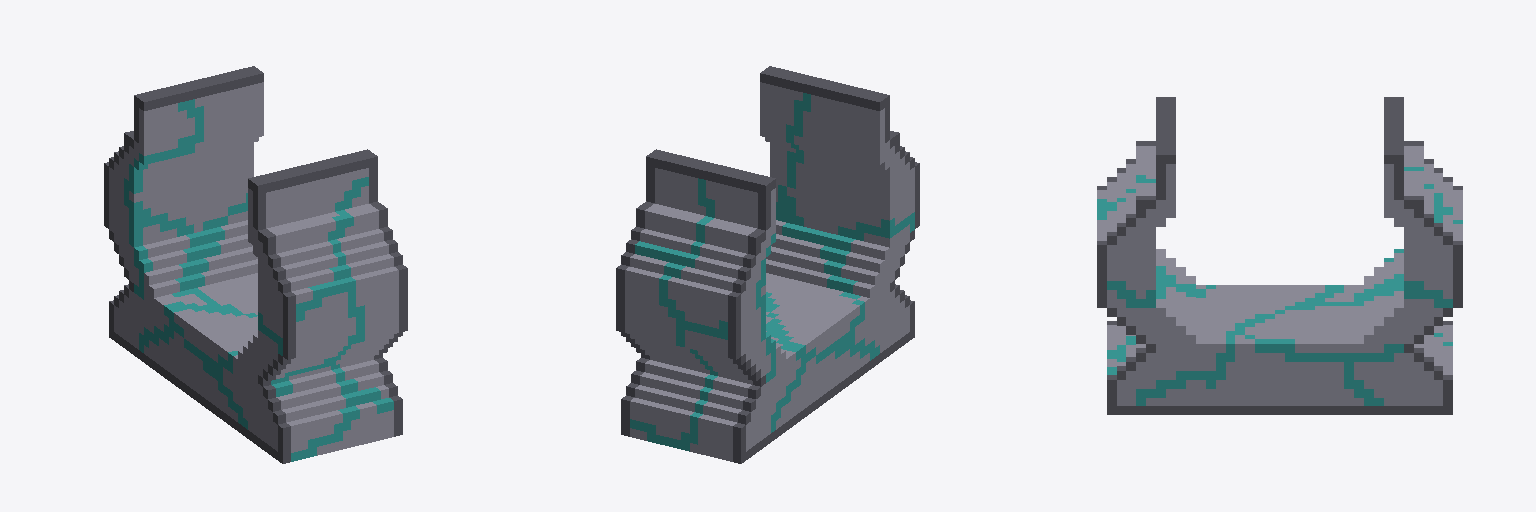
3 renders of one model, left to right at view 1: azimuth 30°, elevation 25°; view 2: azimuth 150°, elevation 25°; view 3: azimuth 270°, elevation 25°, orthographic.
Parts seen in each view (by area): view 1: object 1; view 2: object 1; view 3: object 1.
Boxes of the visible parts, x1=… form: object 1: x1=104, y1=66, x2=407, y2=463; object 1: x1=616, y1=66, x2=919, y2=463; object 1: x1=1097, y1=97, x2=1462, y2=414.
Size of the model in its own units: 1.4 by 2.9 by 3.7.
1 materials, 1 textured.